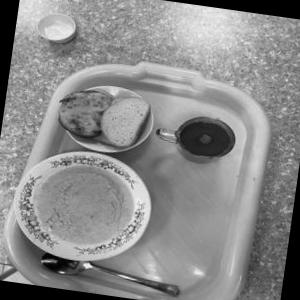bread: (97, 84, 162, 158)
cheese_sandwich: (53, 72, 113, 148)
coffee: (166, 107, 248, 174)
porridge: (10, 148, 160, 268)
